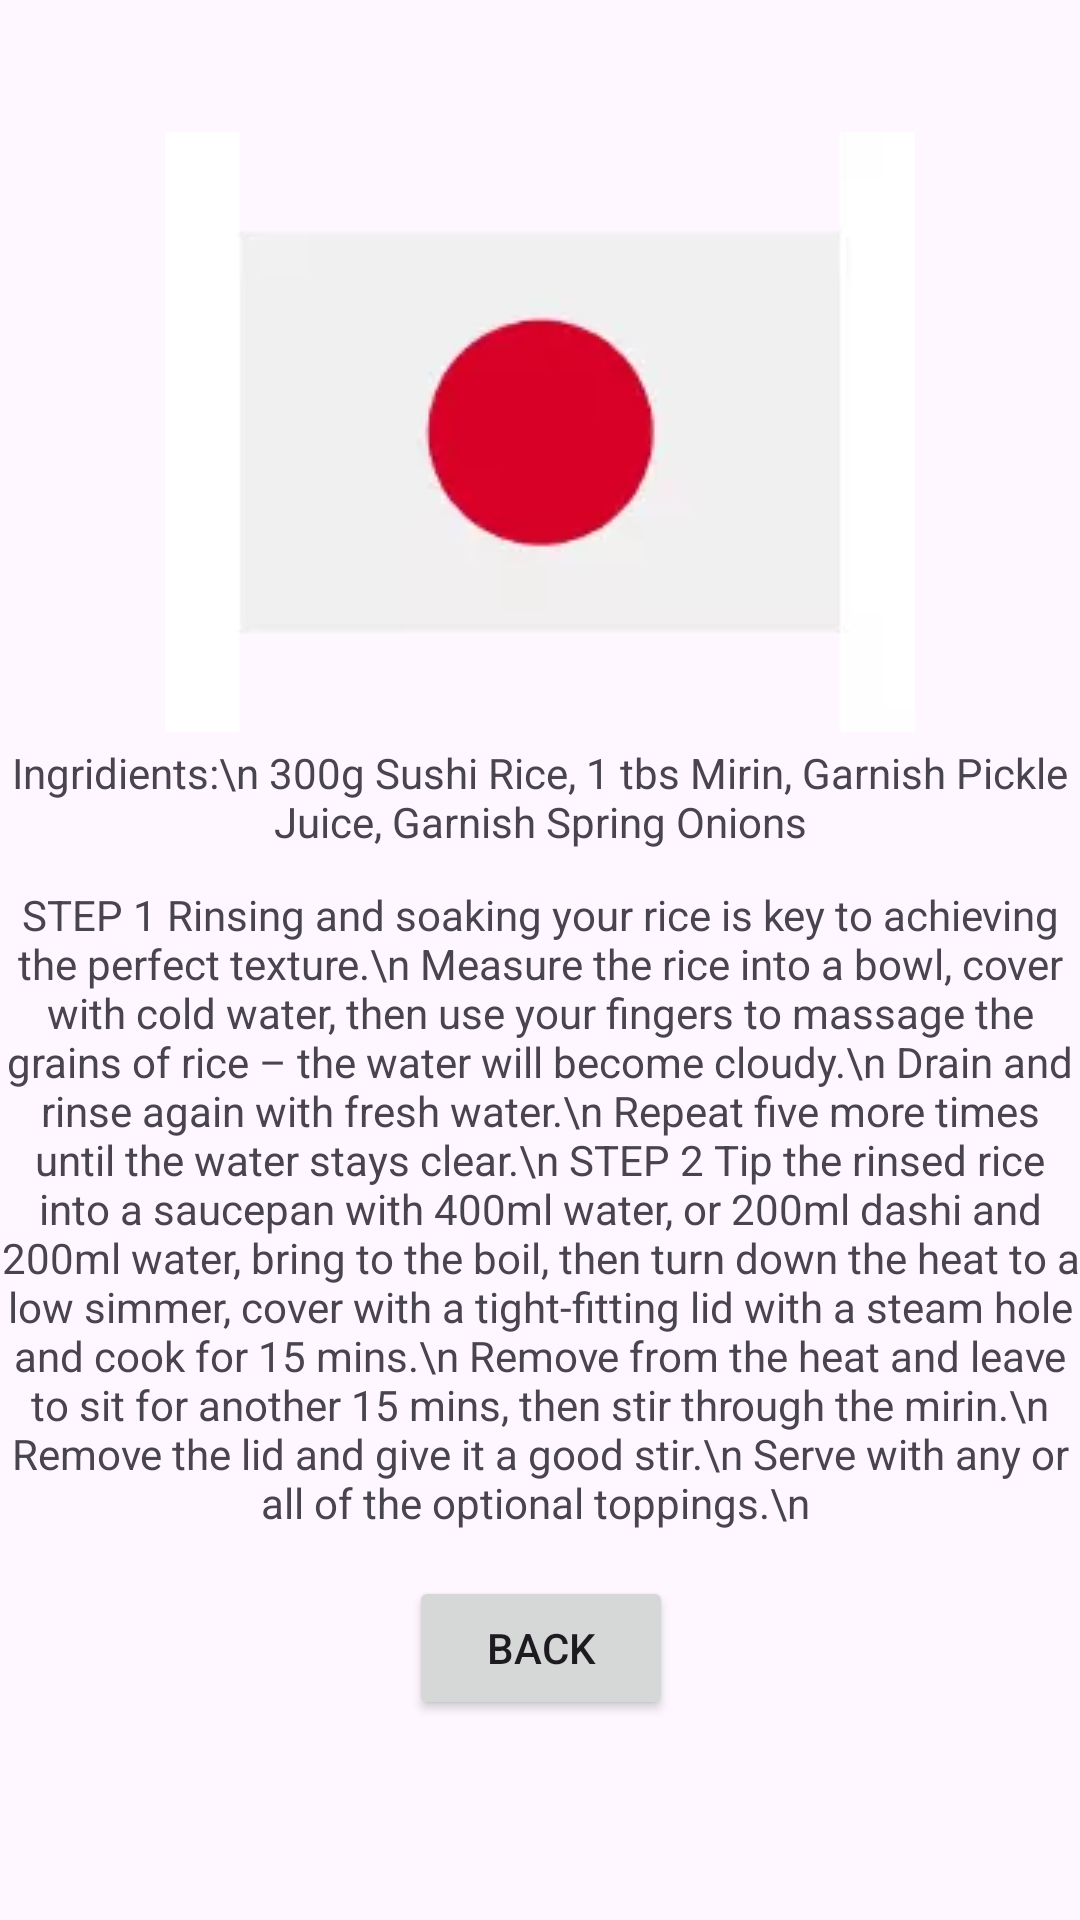

Icons on this 1080 x 1920 Android screen, each with its box as (x1, y1, x2, y2):
japan: (424, 316, 658, 552)
